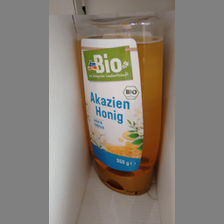honey: (75, 16, 168, 202)
